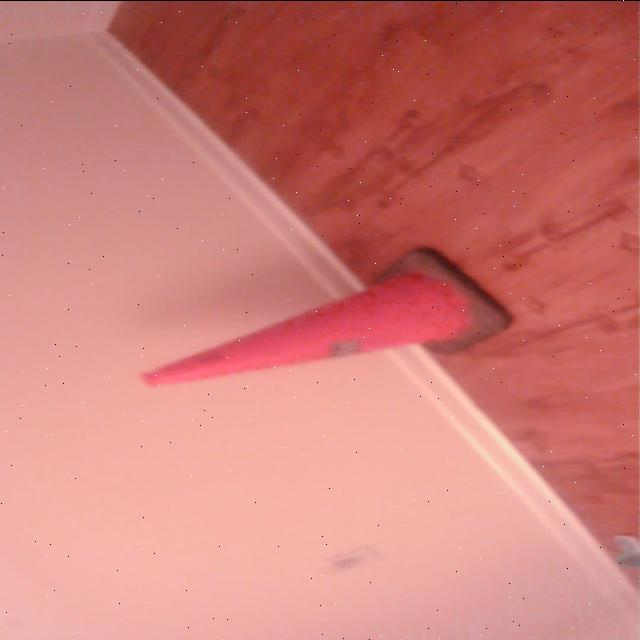traffic cone: (135, 245, 517, 391)
